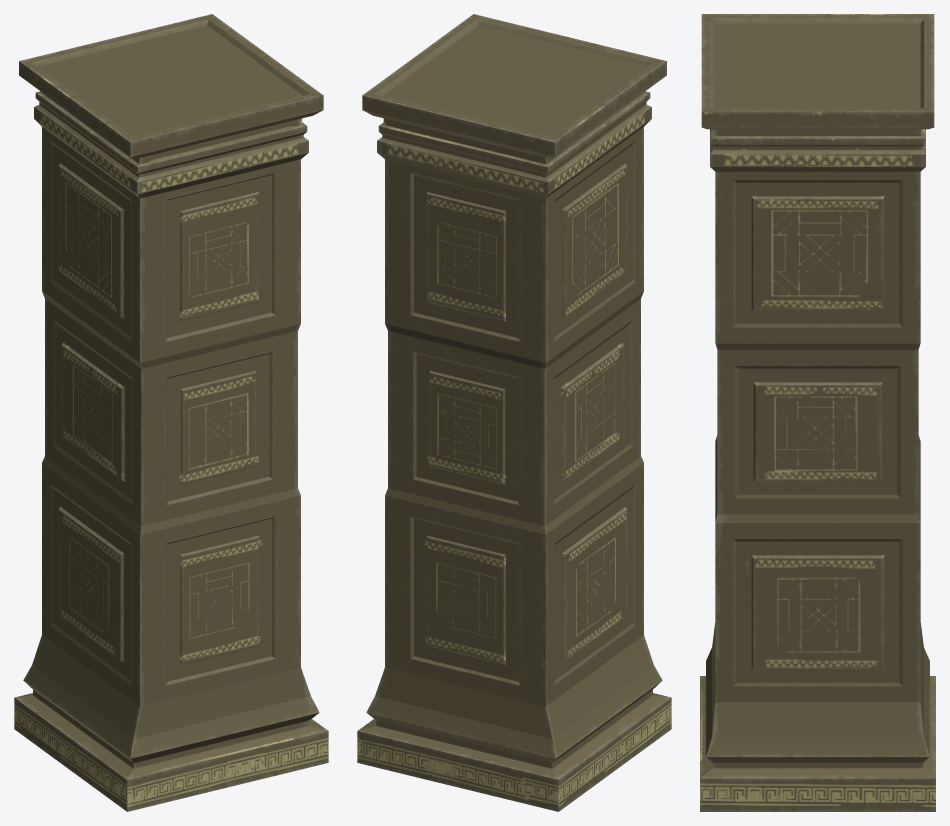
Rendered from BIG PILLAR.fbx.
3 renders of one model, left to right at view 1: azimuth 30°, elevation 25°; view 2: azimuth 150°, elevation 25°; view 3: azimuth 270°, elevation 25°, orthographic. The views are drawn at different scales.
Parts seen in each view (by area): view 1: BIG PILLAR; view 2: BIG PILLAR; view 3: BIG PILLAR.
Part boxes in pixels (x1=…): BIG PILLAR: x1=14, y1=14, x2=328, y2=811; BIG PILLAR: x1=357, y1=14, x2=671, y2=811; BIG PILLAR: x1=700, y1=14, x2=935, y2=811.
Size of the model in its own units: 4.67 by 14.82 by 4.54.
